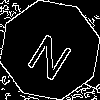N: (25, 25, 80, 83)
